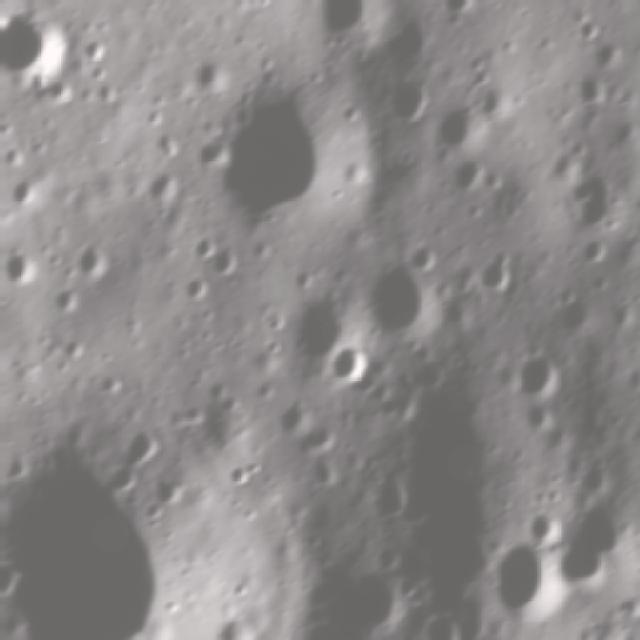crater: (0, 429, 172, 640), (189, 82, 343, 235), (292, 566, 402, 640), (484, 537, 570, 628), (557, 489, 626, 600), (276, 278, 349, 368), (0, 10, 69, 96), (364, 263, 434, 342), (369, 10, 436, 72), (566, 165, 625, 232), (370, 71, 430, 131), (422, 103, 481, 163), (506, 345, 557, 400), (310, 0, 370, 43), (473, 244, 519, 296), (0, 242, 46, 288), (402, 232, 446, 278), (464, 77, 511, 120), (69, 237, 114, 280), (323, 346, 368, 388), (415, 601, 462, 640), (272, 394, 314, 435), (205, 240, 248, 280), (139, 168, 184, 206), (523, 499, 560, 543), (572, 232, 616, 266), (590, 30, 625, 70), (212, 612, 260, 640), (0, 551, 23, 607), (4, 176, 38, 213), (572, 70, 606, 105), (426, 0, 477, 23), (178, 272, 212, 306), (518, 397, 552, 431), (47, 287, 78, 316), (78, 39, 108, 64)
